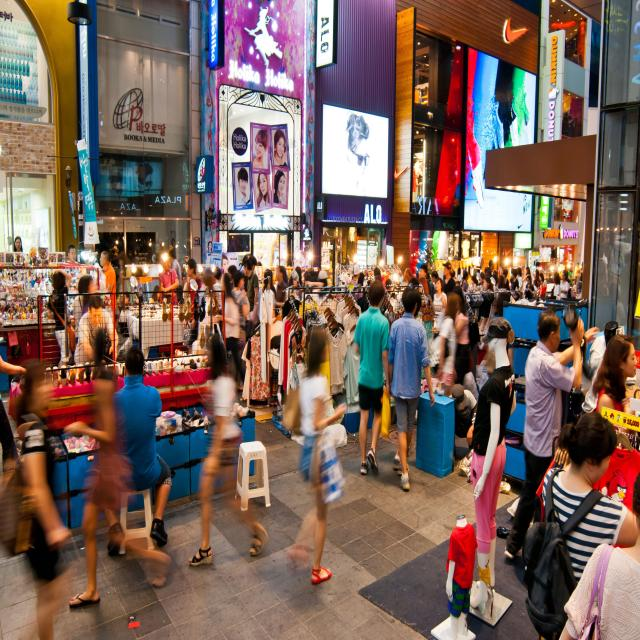body: (68, 344, 173, 610), (504, 310, 601, 562), (540, 410, 639, 640), (188, 334, 269, 567), (13, 362, 74, 640), (96, 346, 172, 557), (288, 325, 348, 586), (470, 318, 516, 616), (388, 286, 436, 493), (354, 278, 391, 478), (228, 121, 292, 217), (595, 333, 638, 449), (0, 252, 56, 326), (594, 226, 633, 330), (214, 272, 246, 393), (338, 112, 382, 196), (444, 513, 471, 640), (0, 354, 28, 475), (74, 295, 119, 367), (245, 0, 285, 76), (48, 268, 72, 372), (448, 383, 478, 461), (437, 294, 459, 396), (231, 271, 251, 383), (418, 276, 436, 384), (452, 285, 471, 385), (186, 258, 203, 355), (67, 268, 96, 323), (293, 250, 331, 287), (470, 259, 510, 292), (243, 258, 259, 339), (99, 250, 116, 324), (114, 236, 156, 265), (160, 255, 179, 308), (212, 266, 224, 342), (432, 277, 448, 331), (74, 276, 86, 343), (275, 265, 289, 318), (168, 250, 182, 303), (344, 264, 363, 301), (242, 256, 258, 295), (261, 269, 277, 305), (418, 264, 433, 302), (560, 111, 578, 140), (158, 237, 178, 261), (442, 262, 456, 294), (182, 273, 192, 316), (471, 275, 480, 322), (412, 160, 423, 198), (524, 274, 536, 300), (425, 271, 435, 302), (550, 272, 561, 300), (401, 268, 418, 286), (124, 290, 144, 305), (567, 257, 584, 274), (560, 270, 570, 298), (538, 272, 548, 298), (553, 196, 563, 222), (560, 270, 569, 298), (148, 285, 160, 306), (229, 238, 247, 252), (239, 254, 250, 275), (66, 244, 78, 263), (220, 254, 230, 275), (357, 272, 365, 298), (516, 266, 524, 292), (288, 272, 300, 288), (511, 268, 519, 291), (483, 276, 494, 292), (383, 279, 394, 294), (13, 236, 23, 252), (522, 266, 532, 282), (452, 250, 464, 263), (462, 271, 469, 293), (120, 291, 130, 306), (430, 270, 439, 284), (206, 240, 214, 255), (534, 270, 540, 288), (535, 262, 543, 274), (533, 280, 538, 298), (373, 266, 381, 276), (345, 250, 350, 265), (450, 270, 456, 280), (500, 266, 506, 275), (62, 252, 65, 262)
